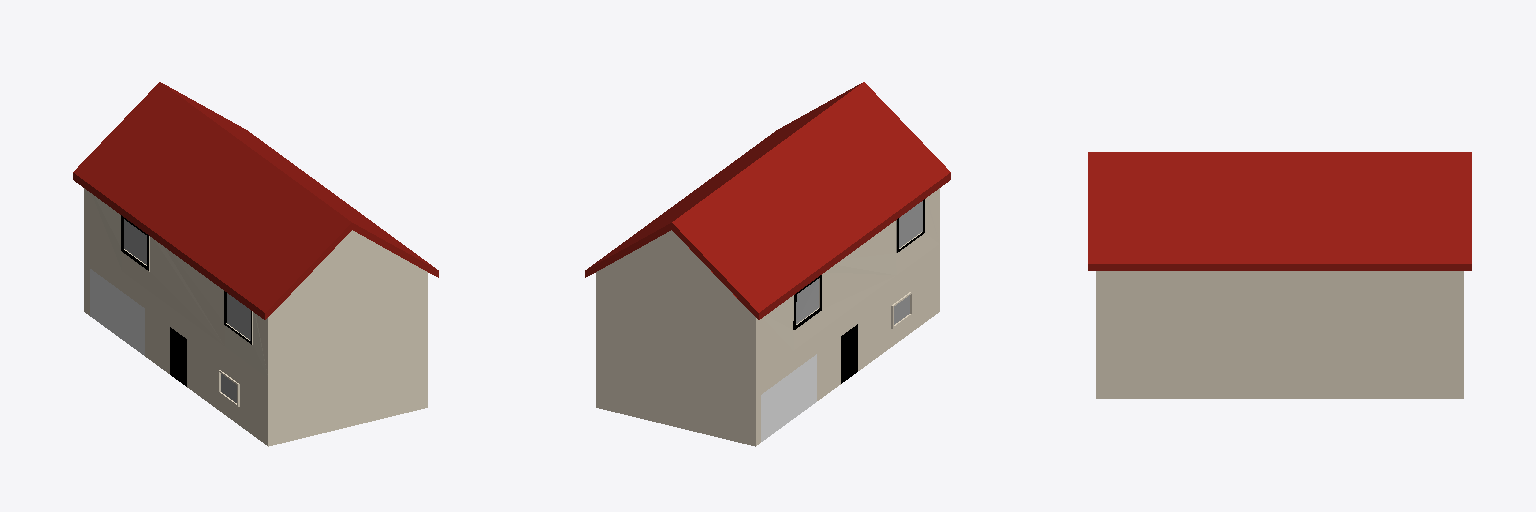
The model's file is detached_house_1b.obj.
3 views of the same model, side by side, from view 1: azimuth 30°, elevation 25°; view 2: azimuth 150°, elevation 25°; view 3: azimuth 270°, elevation 25° (orthographic).
Parts seen in each view (by area): view 1: Box45; view 2: Box45; view 3: Box45.
Boxes of the visible parts, box(x1,y1,x2,y2) form: Box45: box(73, 82, 438, 446); Box45: box(585, 82, 950, 446); Box45: box(1088, 152, 1471, 398).
Size of the model in its own units: 12 by 13.71 by 23.